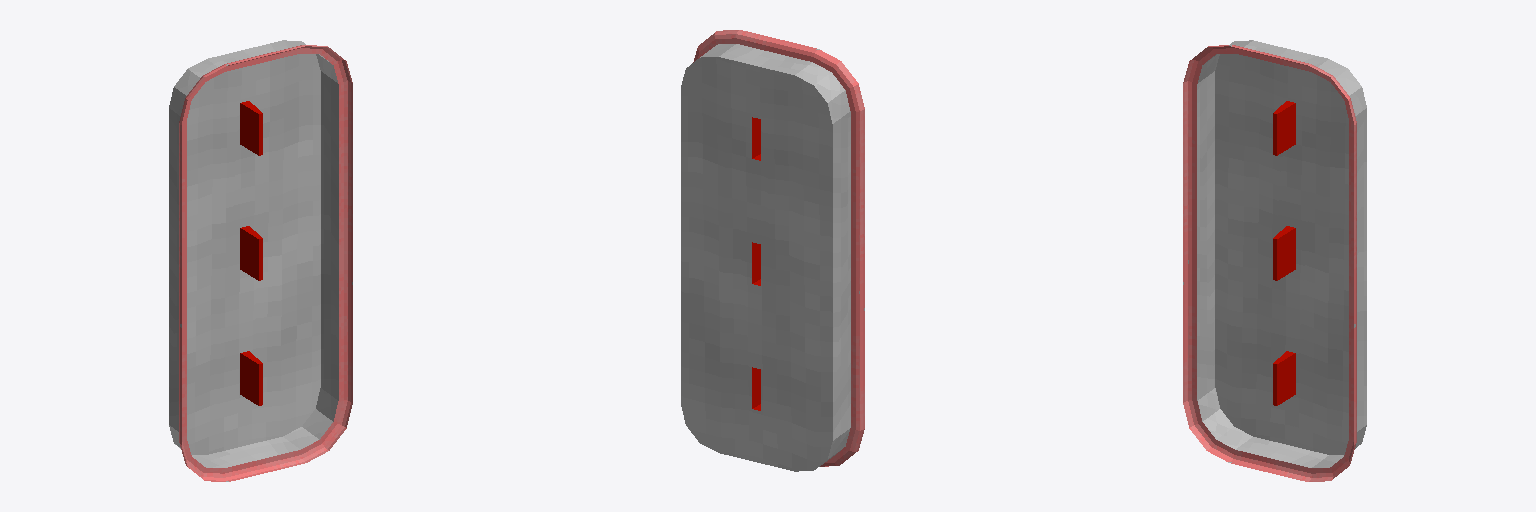
3 renders of one model, left to right at view 1: azimuth 30°, elevation 25°; view 2: azimuth 150°, elevation 25°; view 3: azimuth 330°, elevation 25°, orthographic.
Parts seen in each view (by area): view 1: Cube; view 2: Cube; view 3: Cube.
Part boxes in pixels (x1,y1,x2,y2): Cube: (169,40,352,481); Cube: (681,30,864,471); Cube: (1183,40,1366,481).
Bounding box in the file's own units: 0.4305 × 1 × 0.0981.
Materials: 5 (2 with a texture image).